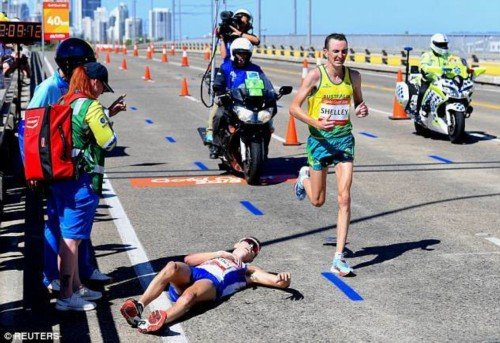fall: (113, 226, 300, 336)
